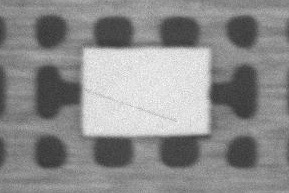DIE_CRACK: (127, 60, 264, 81)
